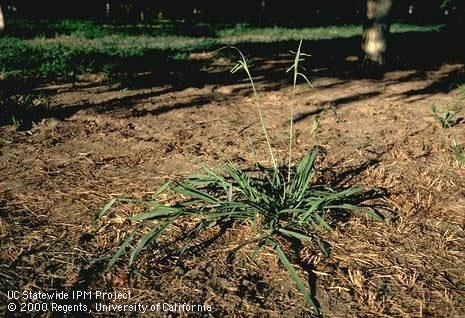crabgrass: (175, 140, 368, 246)
